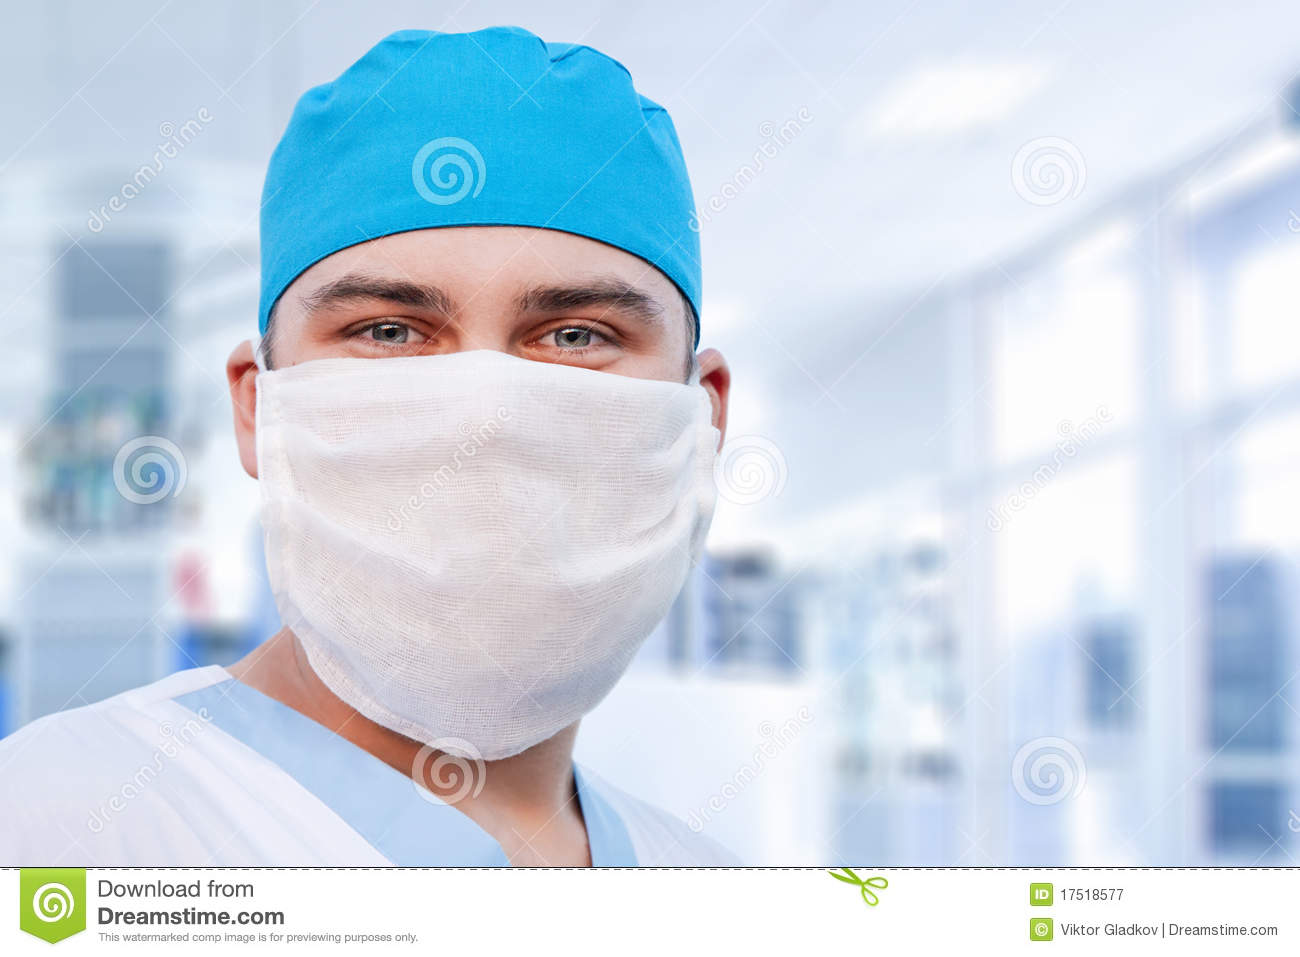mask: (231, 366, 708, 702)
